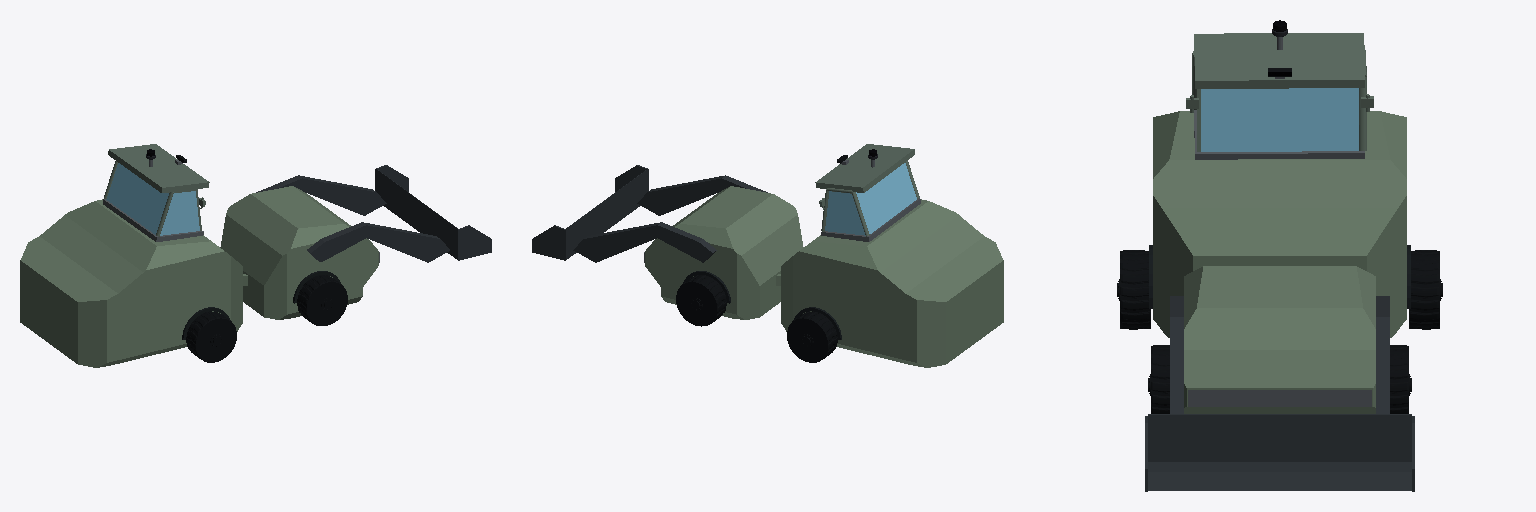
The robot description file, URDF, robot "wheel_loader":
<?xml version="1.0"?>
<robot name="wheel_loader">
  <material name="frame_green"><color rgba="0.43 0.5 0.43 1"/></material>
  <material name="cab_green"><color rgba="0.39 0.45 0.41 1"/></material>
  <material name="glass"><color rgba="0.5 0.72 0.82 0.35"/></material>
  <material name="steel"><color rgba="0.36 0.38 0.4 1"/></material>
  <material name="tire_black"><color rgba="0.09 0.1 0.11 1"/></material>
  <material name="arm_dark"><color rgba="0.21 0.23 0.25 1"/></material>
  <material name="fender_black"><color rgba="0.12 0.14 0.15 1"/></material>
  <material name="camera_dark"><color rgba="0.09 0.1 0.11 1"/></material>
  <material name="camera_glass"><color rgba="0.02 0.02 0.03 1"/></material>
  <material name="lidar_black"><color rgba="0.05 0.05 0.06 1"/></material>
  <link name="base_footprint"/>
  <link name="base_link">
    <inertial>
      <origin xyz="-0.25917 0.000379 0.39671" rpy="0 0 0"/>
      <mass value="733.3"/>
      <inertia ixx="181.631112" ixy="-0.033093" ixz="-17.152335" iyy="205.890158" iyz="-0.197839" izz="196.564163"/>
    </inertial>
    <visual name="rear_frame">
      <origin xyz="0 0 0" rpy="0 0 0"/>
      <geometry><mesh filename="package://loader_description/meshes/visual/rear_frame.stl"/></geometry>
      <material name="frame_green"/>
    </visual>
    <visual name="cab_body">
      <origin xyz="0 0 0" rpy="0 0 0"/>
      <geometry><mesh filename="package://loader_description/meshes/visual/cab_body.stl"/></geometry>
      <material name="cab_green"/>
    </visual>
    <visual name="cab_glass">
      <origin xyz="0 0 0" rpy="0 0 0"/>
      <geometry><mesh filename="package://loader_description/meshes/visual/cab_glass.stl"/></geometry>
      <material name="glass"/>
    </visual>
    <visual name="cab_base">
      <origin xyz="0 0 0" rpy="0 0 0"/>
      <geometry><mesh filename="package://loader_description/meshes/visual/cab_base.stl"/></geometry>
      <material name="steel"/>
    </visual>
    <visual name="rear_hinge_lugs">
      <origin xyz="0 0 0" rpy="0 0 0"/>
      <geometry><mesh filename="package://loader_description/meshes/visual/rear_hinge_lugs.stl"/></geometry>
      <material name="frame_green"/>
    </visual>
    <visual name="hinge_pin">
      <origin xyz="0 0 0" rpy="0 0 0"/>
      <geometry><mesh filename="package://loader_description/meshes/visual/hinge_pin.stl"/></geometry>
      <material name="steel"/>
    </visual>
    <visual name="fender_rr">
      <origin xyz="0 0 0" rpy="0 0 0"/>
      <geometry><mesh filename="package://loader_description/meshes/visual/fender_rr.stl"/></geometry>
      <material name="fender_black"/>
    </visual>
    <visual name="fender_rl">
      <origin xyz="0 0 0" rpy="0 0 0"/>
      <geometry><mesh filename="package://loader_description/meshes/visual/fender_rl.stl"/></geometry>
      <material name="fender_black"/>
    </visual>
    <collision name="rear_frame_collision">
      <origin xyz="0 0 0" rpy="0 0 0"/>
      <geometry><mesh filename="package://loader_description/meshes/collision/rear_frame_collision.stl"/></geometry>
    </collision>
    <collision name="cab_collision">
      <origin xyz="0 0 0" rpy="0 0 0"/>
      <geometry><mesh filename="package://loader_description/meshes/collision/cab_collision.stl"/></geometry>
    </collision>
  </link>
  <link name="front_frame">
    <inertial>
      <origin xyz="0.596638 -0 0.087463" rpy="0 0 0"/>
      <mass value="391"/>
      <inertia ixx="44.450083" ixy="0.000001" ixz="-1.893695" iyy="40.862185" iyz="0" izz="55.373341"/>
    </inertial>
    <visual name="front_frame">
      <origin xyz="0 0 0" rpy="0 0 0"/>
      <geometry><mesh filename="package://loader_description/meshes/visual/front_frame.stl"/></geometry>
      <material name="frame_green"/>
    </visual>
    <visual name="front_plate">
      <origin xyz="0 0 0" rpy="0 0 0"/>
      <geometry><mesh filename="package://loader_description/meshes/visual/front_plate.stl"/></geometry>
      <material name="steel"/>
    </visual>
    <visual name="front_hinge_lugs">
      <origin xyz="0 0 0" rpy="0 0 0"/>
      <geometry><mesh filename="package://loader_description/meshes/visual/front_hinge_lugs.stl"/></geometry>
      <material name="frame_green"/>
    </visual>
    <visual name="hinge_bushing">
      <origin xyz="0 0 0" rpy="0 0 0"/>
      <geometry><mesh filename="package://loader_description/meshes/visual/hinge_bushing.stl"/></geometry>
      <material name="steel"/>
    </visual>
    <visual name="fender_fr">
      <origin xyz="0 0 0" rpy="0 0 0"/>
      <geometry><mesh filename="package://loader_description/meshes/visual/fender_fr.stl"/></geometry>
      <material name="fender_black"/>
    </visual>
    <visual name="fender_fl">
      <origin xyz="0 0 0" rpy="0 0 0"/>
      <geometry><mesh filename="package://loader_description/meshes/visual/fender_fl.stl"/></geometry>
      <material name="fender_black"/>
    </visual>
    <collision name="front_frame_collision">
      <origin xyz="0 0 0" rpy="0 0 0"/>
      <geometry><mesh filename="package://loader_description/meshes/collision/front_frame_collision.stl"/></geometry>
    </collision>
  </link>
  <link name="wheel_01_link">
    <inertial>
      <origin xyz="0 -0.007485 0" rpy="0 0 0"/>
      <mass value="45"/>
      <inertia ixx="0.506902" ixy="0" ixz="-0" iyy="0.834048" iyz="0" izz="0.506902"/>
    </inertial>
    <visual name="wheel">
      <origin xyz="0 0 0" rpy="0 0 0"/>
      <geometry><mesh filename="package://loader_description/meshes/visual/wheel_left.stl"/></geometry>
      <material name="tire_black"/>
    </visual>
    <collision name="tire">
      <origin xyz="0 0 0" rpy="1.570796 0 0"/>
      <geometry><cylinder radius="0.196892" length="0.169728"/></geometry>
    </collision>
  </link>
  <link name="wheel_02_link">
    <inertial>
      <origin xyz="0 0.007485 0" rpy="0 0 0"/>
      <mass value="45"/>
      <inertia ixx="0.506903" ixy="0" ixz="-0" iyy="0.83405" iyz="0" izz="0.506903"/>
    </inertial>
    <visual name="wheel">
      <origin xyz="0 0 0" rpy="0 0 0"/>
      <geometry><mesh filename="package://loader_description/meshes/visual/wheel_right.stl"/></geometry>
      <material name="tire_black"/>
    </visual>
    <collision name="tire">
      <origin xyz="0 0 0" rpy="1.570796 0 0"/>
      <geometry><cylinder radius="0.196892" length="0.169728"/></geometry>
    </collision>
  </link>
  <link name="wheel_03_link">
    <inertial>
      <origin xyz="0 -0.007485 0" rpy="0 0 0"/>
      <mass value="45"/>
      <inertia ixx="0.506902" ixy="0" ixz="-0" iyy="0.834048" iyz="0" izz="0.506902"/>
    </inertial>
    <visual name="wheel">
      <origin xyz="0 0 0" rpy="0 0 0"/>
      <geometry><mesh filename="package://loader_description/meshes/visual/wheel_left.stl"/></geometry>
      <material name="tire_black"/>
    </visual>
    <collision name="tire">
      <origin xyz="0 0 0" rpy="1.570796 0 0"/>
      <geometry><cylinder radius="0.196892" length="0.169728"/></geometry>
    </collision>
  </link>
  <link name="wheel_04_link">
    <inertial>
      <origin xyz="0 0.007485 0" rpy="0 0 0"/>
      <mass value="45"/>
      <inertia ixx="0.506903" ixy="0" ixz="-0" iyy="0.83405" iyz="0" izz="0.506903"/>
    </inertial>
    <visual name="wheel">
      <origin xyz="0 0 0" rpy="0 0 0"/>
      <geometry><mesh filename="package://loader_description/meshes/visual/wheel_right.stl"/></geometry>
      <material name="tire_black"/>
    </visual>
    <collision name="tire">
      <origin xyz="0 0 0" rpy="1.570796 0 0"/>
      <geometry><cylinder radius="0.196892" length="0.169728"/></geometry>
    </collision>
  </link>
  <!-- both lift arms are ONE rigid link (they are rigidly tied by the bucket and the cross beam in reality): one joint, bucket hangs on both arms -->
  <link name="lift_arm_link">
    <inertial>
      <origin xyz="0.614868 0 -0.063575" rpy="0 0 0"/>
      <mass value="80"/>
      <inertia ixx="22.253709" ixy="0" ixz="2.521116" iyy="11.082974" iyz="0" izz="31.256485"/>
    </inertial>
    <visual name="left_lift_arm">
      <origin xyz="0 0.51456 0" rpy="0 0 0"/>
      <geometry><mesh filename="package://loader_description/meshes/visual/left_lift_arm.stl"/></geometry>
      <material name="arm_dark"/>
    </visual>
    <visual name="right_lift_arm">
      <origin xyz="0 -0.51456 0" rpy="0 0 0"/>
      <geometry><mesh filename="package://loader_description/meshes/visual/right_lift_arm.stl"/></geometry>
      <material name="arm_dark"/>
    </visual>
    <collision name="left_col0"><origin xyz="0 0.51456 0" rpy="0 0 0"/><geometry><mesh filename="package://loader_description/meshes/collision/lift_arm_left_col0.stl"/></geometry></collision>
    <collision name="left_col1"><origin xyz="0 0.51456 0" rpy="0 0 0"/><geometry><mesh filename="package://loader_description/meshes/collision/lift_arm_left_col1.stl"/></geometry></collision>
    <collision name="right_col0"><origin xyz="0 -0.51456 0" rpy="0 0 0"/><geometry><mesh filename="package://loader_description/meshes/collision/lift_arm_right_col0.stl"/></geometry></collision>
    <collision name="right_col1"><origin xyz="0 -0.51456 0" rpy="0 0 0"/><geometry><mesh filename="package://loader_description/meshes/collision/lift_arm_right_col1.stl"/></geometry></collision>
  </link>
  <joint name="lift_arm_joint" type="revolute">
    <parent link="front_frame"/>
    <child link="lift_arm_link"/>
    <origin xyz="0.51932 0 0.331346" rpy="0 0 0"/>
    <axis xyz="0 -1 0"/>
    <limit lower="-0.2116" upper="0.7854" effort="80000" velocity="0.4"/>
    <dynamics damping="1.0" friction="0.5"/>
  </joint>
  <link name="bucket_link">
    <inertial>
      <origin xyz="0.087019 0 0.017301" rpy="0 0 0"/>
      <mass value="90"/>
      <inertia ixx="16.87453" ixy="0" ixz="0.200919" iyy="1.011092" iyz="0" izz="17.013005"/>
    </inertial>
    <visual name="bucket">
      <origin xyz="0 0 0" rpy="0 0 0"/>
      <geometry><mesh filename="package://loader_description/meshes/visual/bucket.stl"/></geometry>
      <material name="arm_dark"/>
    </visual>
    <collision name="mid0">
      <origin xyz="0 0 0" rpy="0 0 0"/>
      <geometry><mesh filename="package://loader_description/meshes/collision/bucket_mid0.stl"/></geometry>
    </collision>
    <collision name="mid1">
      <origin xyz="0 0 0" rpy="0 0 0"/>
      <geometry><mesh filename="package://loader_description/meshes/collision/bucket_mid1.stl"/></geometry>
    </collision>
    <collision name="side_left">
      <origin xyz="0 0 0" rpy="0 0 0"/>
      <geometry><mesh filename="package://loader_description/meshes/collision/bucket_side_left.stl"/></geometry>
    </collision>
    <collision name="side_right">
      <origin xyz="0 0 0" rpy="0 0 0"/>
      <geometry><mesh filename="package://loader_description/meshes/collision/bucket_side_right.stl"/></geometry>
    </collision>
  </link>
  <link name="camera_link">
    <inertial>
      <origin xyz="-0.03755 0 -0.01619" rpy="0 0 0"/>
      <mass value="0.5"/>
      <inertia ixx="0.000626" ixy="0" ixz="-0.000249" iyy="0.000775" iyz="0" izz="0.001046"/>
    </inertial>
    <visual name="camera_depth_body">
      <origin xyz="0 0 0" rpy="0 0 0"/>
      <geometry><mesh filename="package://loader_description/meshes/visual/camera_depth_body.stl"/></geometry>
      <material name="camera_dark"/>
    </visual>
    <visual name="camera_depth_optics">
      <origin xyz="0 0 0" rpy="0 0 0"/>
      <geometry><mesh filename="package://loader_description/meshes/visual/camera_depth_optics.stl"/></geometry>
      <material name="camera_glass"/>
    </visual>
    <visual name="camera_mount">
      <origin xyz="0 0 0" rpy="0 0 0"/>
      <geometry><mesh filename="package://loader_description/meshes/visual/camera_mount.stl"/></geometry>
      <material name="steel"/>
    </visual>
  </link>
  <link name="camera_optical_frame"/>
  <joint name="base_footprint_joint" type="fixed">
    <parent link="base_footprint"/>
    <child link="base_link"/>
    <origin xyz="0 0 0.196892" rpy="0 0 0"/>
  </joint>
  <joint name="front_frame_joint" type="revolute">
    <parent link="base_link"/>
    <child link="front_frame"/>
    <origin xyz="0.576 0 0.093722" rpy="0 0 0"/>
    <axis xyz="0 0 1"/>
    <limit lower="-0.610865" upper="0.610865" effort="40000" velocity="0.35"/>
    <dynamics damping="1.0" friction="0.5"/>
  </joint>
  <joint name="wheel_01_joint" type="continuous">
    <parent link="front_frame"/>
    <child link="wheel_01_link"/>
    <origin xyz="0.5428 0.572864 -0.093722" rpy="0 0 0"/>
    <axis xyz="0 1 0"/>
    <limit effort="600" velocity="12"/>
    <dynamics damping="1.0" friction="0.5"/>
  </joint>
  <joint name="wheel_02_joint" type="continuous">
    <parent link="front_frame"/>
    <child link="wheel_02_link"/>
    <origin xyz="0.5428 -0.572864 -0.093722" rpy="0 0 0"/>
    <axis xyz="0 1 0"/>
    <limit effort="600" velocity="12"/>
    <dynamics damping="1.0" friction="0.5"/>
  </joint>
  <joint name="wheel_03_joint" type="continuous">
    <parent link="base_link"/>
    <child link="wheel_03_link"/>
    <origin xyz="0 0.726464 0" rpy="0 0 0"/>
    <axis xyz="0 1 0"/>
    <limit effort="600" velocity="12"/>
    <dynamics damping="1.0" friction="0.5"/>
  </joint>
  <joint name="wheel_04_joint" type="continuous">
    <parent link="base_link"/>
    <child link="wheel_04_link"/>
    <origin xyz="0 -0.726464 0" rpy="0 0 0"/>
    <axis xyz="0 1 0"/>
    <limit effort="600" velocity="12"/>
    <dynamics damping="1.0" friction="0.5"/>
  </joint>
  <joint name="bucket_joint" type="revolute">
    <parent link="lift_arm_link"/>
    <child link="bucket_link"/>
    <origin xyz="1.223675 0 -0.264192" rpy="0 0 0"/>
    <axis xyz="0 -1 0"/>
    <limit lower="-0.8727" upper="0.6" effort="25000" velocity="0.6"/>
    <dynamics damping="1.0" friction="0.5"/>
  </joint>
  <joint name="camera_joint" type="fixed">
    <parent link="base_link"/>
    <child link="camera_link"/>
    <origin xyz="0.15118 0 1.256902" rpy="0 0.12 0"/>
  </joint>
  <joint name="camera_optical_joint" type="fixed">
    <parent link="camera_link"/>
    <child link="camera_optical_frame"/>
    <origin xyz="0 0 0" rpy="-1.570796 0 -1.570796"/>
  </joint>
  <material name="lidar_grey"><color rgba="0.15 0.16 0.18 1"/></material>
  <!-- ================= sensors (rear frame = base_link, so all of them move with the cab; see docs/SENSORS.md) ================= -->
  <!-- 2D LiDAR: scan plane 1.375 m above base_link (1.57 m above ground) = above the cab roof (1.275) and the camera top (1.302) -> 360 deg free view -->
  <link name="lidar_link">
    <inertial><origin xyz="0 0 -0.04657" rpy="0 0 0"/><mass value="0.25"/><inertia ixx="0.000763" ixy="0" ixz="0" iyy="0.000763" iyz="0" izz="0.000205"/></inertial>
    <visual name="lidar_base">
      <origin xyz="0 0 0" rpy="0 0 0"/>
      <geometry><mesh filename="package://loader_description/meshes/visual/lidar_base.stl"/></geometry>
      <material name="lidar_grey"/>
    </visual>
    <visual name="lidar_head">
      <origin xyz="0 0 0" rpy="0 0 0"/>
      <geometry><mesh filename="package://loader_description/meshes/visual/lidar_head.stl"/></geometry>
      <material name="lidar_black"/>
    </visual>
    <visual name="lidar_mount">
      <origin xyz="0 0 0" rpy="0 0 0"/>
      <geometry><mesh filename="package://loader_description/meshes/visual/lidar_mount.stl"/></geometry>
      <material name="steel"/>
    </visual>
  </link>
  <joint name="lidar_joint" type="fixed">
    <parent link="base_link"/>
    <child link="lidar_link"/>
    <origin xyz="-0.15 0 1.375" rpy="0 0 0"/>
  </joint>
  <!-- IMU in the rear frame near the axle line (rigid, near the centre of the vehicle) -->
  <link name="imu_link">
    <inertial><origin xyz="0 0 0" rpy="0 0 0"/><mass value="0.05"/><inertia ixx="0.00001" ixy="0" ixz="0" iyy="0.00001" iyz="0" izz="0.00001"/></inertial>
  </link>
  <joint name="imu_joint" type="fixed">
    <parent link="base_link"/>
    <child link="imu_link"/>
    <origin xyz="-0.1 0 0.25" rpy="0 0 0"/>
  </joint>
</robot>

--- What the picture shows (computed from the rendered views, not written in the file) ---
3 views of the same robot in one strip: view 1: azimuth 30°, elevation 25°; view 2: azimuth 150°, elevation 25°; view 3: azimuth 270°, elevation 25° (orthographic).
Model wheel_loader with 13 links and 12 joints (3 revolute, 4 continuous, 5 fixed), rooted at base_footprint, posed all joints at 0.
Visible links, largest first — view 1: base_link, front_frame, lift_arm_link, bucket_link, wheel_02_link, wheel_04_link; view 2: base_link, front_frame, lift_arm_link, bucket_link, wheel_01_link, wheel_03_link; view 3: base_link, front_frame, bucket_link, lift_arm_link, wheel_03_link, wheel_04_link, wheel_01_link, wheel_02_link.
Boxes of the visible links, x1,y1,x2,y2 form: base_link: (20, 144, 242, 367); front_frame: (220, 186, 379, 319); lift_arm_link: (256, 175, 449, 262); bucket_link: (375, 165, 491, 260); wheel_02_link: (297, 275, 347, 325); wheel_04_link: (186, 311, 236, 362); base_link: (781, 144, 1003, 367); front_frame: (644, 186, 803, 319); lift_arm_link: (573, 175, 767, 262); bucket_link: (532, 165, 648, 260); wheel_01_link: (676, 275, 726, 326); wheel_03_link: (787, 311, 837, 362); base_link: (1149, 33, 1410, 337); front_frame: (1184, 266, 1375, 413); bucket_link: (1145, 414, 1414, 491); lift_arm_link: (1170, 296, 1389, 413); wheel_03_link: (1409, 250, 1442, 329); wheel_04_link: (1117, 250, 1150, 329); wheel_01_link: (1390, 345, 1411, 413); wheel_02_link: (1148, 345, 1169, 413).
Size in the robot's own frame: 3.72 by 1.62 by 1.59 metres.
27 mesh visuals loaded from 25 distinct referenced files (25 binary STL).
